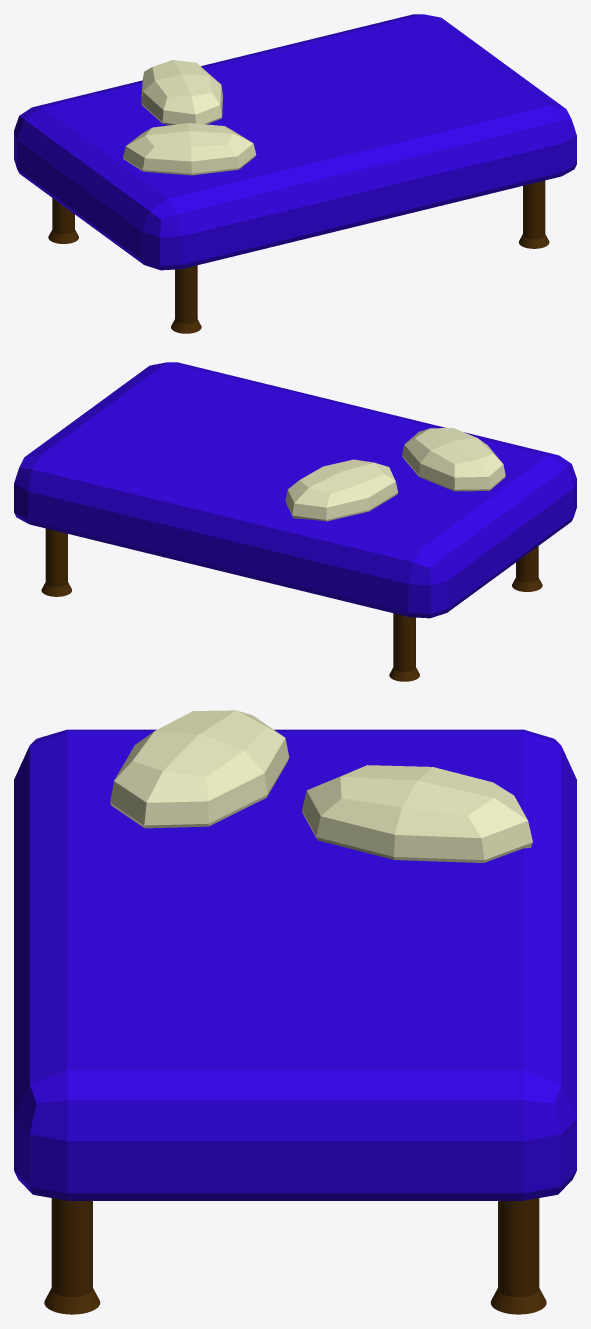
The model's file is bed.fbx.
The picture shows the model from 3 angles, top to bottom: view 1: azimuth 30°, elevation 25°; view 2: azimuth 150°, elevation 25°; view 3: azimuth 270°, elevation 25°; orthographic projection. The views are drawn at different scales.
Visible parts, largest first — view 1: Cube, Cube.001; view 2: Cube, Cube.001; view 3: Cube, Cube.001.
Part boxes in pixels (x1,y1,x2,y2): Cube: (14,14,576,333); Cube.001: (123,60,256,175); Cube: (14,362,576,681); Cube.001: (285,428,505,521); Cube: (14,729,576,1314); Cube.001: (110,710,532,862).
Size of the model in its own units: 439 by 157 by 272.
